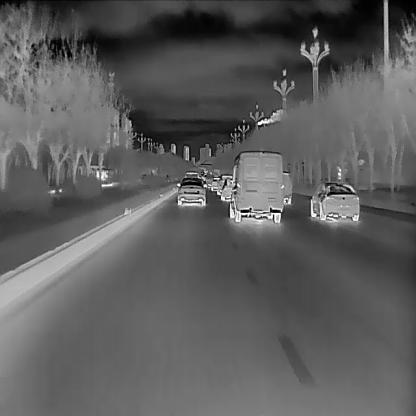car: (229, 146, 284, 222), (309, 179, 359, 223), (175, 178, 205, 206), (278, 171, 293, 204), (220, 178, 241, 201), (216, 174, 235, 193), (184, 171, 198, 185), (211, 177, 221, 190)
